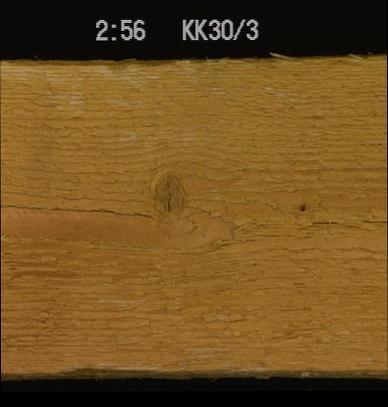small_knot: (293, 198, 309, 212)
split: (0, 204, 173, 226), (303, 216, 386, 226)
wave: (53, 351, 154, 378), (0, 58, 192, 71)
